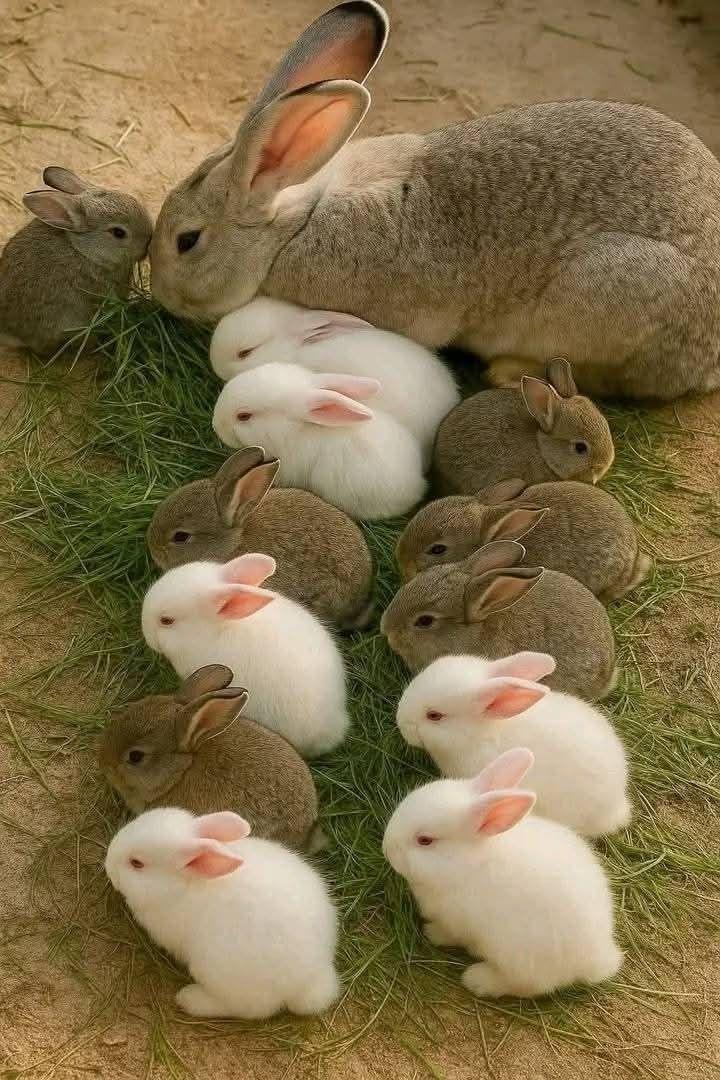rabbit: (151, 0, 719, 398), (383, 748, 622, 997), (105, 808, 339, 1018), (397, 651, 630, 836), (142, 553, 348, 757), (210, 297, 459, 463), (99, 664, 320, 850), (147, 447, 372, 629), (381, 541, 615, 700), (213, 363, 426, 519), (397, 481, 650, 602), (0, 166, 151, 354), (433, 358, 613, 493)
